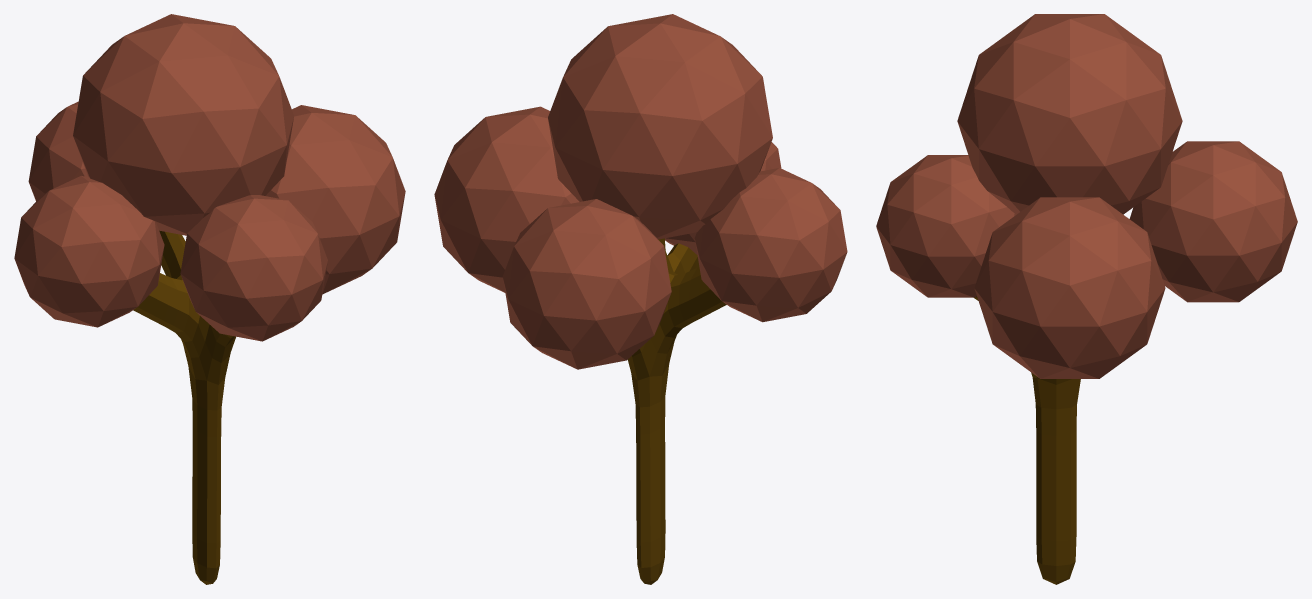
File: redtreess.fbx
3 views of the same model, side by side, from view 1: azimuth 30°, elevation 25°; view 2: azimuth 150°, elevation 25°; view 3: azimuth 270°, elevation 25° (orthographic). The views are drawn at different scales.
Parts seen in each view (by area): view 1: Icosphere.001, Icosphere, Icosphere.004, Icosphere.002, Plane, Icosphere.003; view 2: Icosphere.001, Icosphere.003, Icosphere, Icosphere.002, Plane, Icosphere.004; view 3: Icosphere.001, Icosphere.002, Icosphere.003, Icosphere.004, Plane.
Part boxes in pixels (x1,y1,x2,y2): Icosphere.001: (73,14,293,235); Icosphere: (14,176,164,327); Icosphere.004: (180,195,327,341); Icosphere.002: (266,105,405,294); Plane: (133,230,235,584); Icosphere.003: (28,101,88,201); Icosphere.001: (548,14,772,239); Icosphere.003: (502,199,671,369); Icosphere: (694,168,847,322); Icosphere.002: (434,106,579,292); Plane: (627,238,726,584); Icosphere.004: (665,142,781,254); Icosphere.001: (957,14,1182,214); Icosphere.002: (974,197,1165,378); Icosphere.003: (1129,141,1297,302); Icosphere.004: (876,155,1016,297); Plane: (974,296,1080,584).
Bounding box in the file's own units: 221 × 319 × 218.
